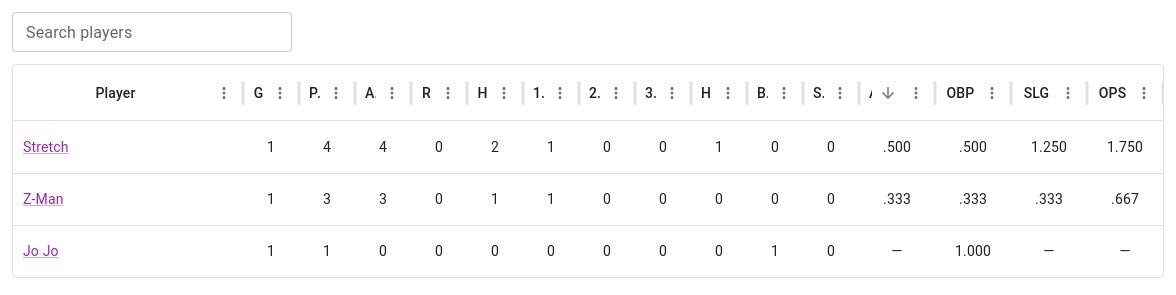
Test case: StatsGrid › filters rows by player name (case-insensitive substring)
This screenshot has width=1176, height=295.
In the field labelled "Search players": (152, 32) [12,12,292,52], type "z-ma"
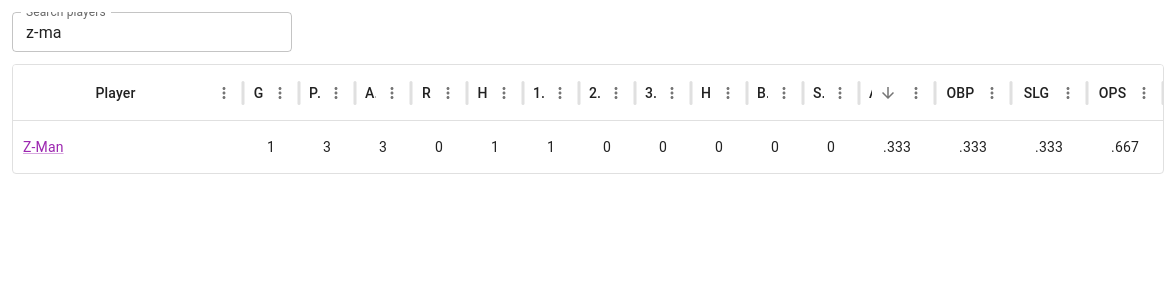
expect the number of links is 1: met, box [23,139,64,155]
expect the link "Stretch" is gone: met
